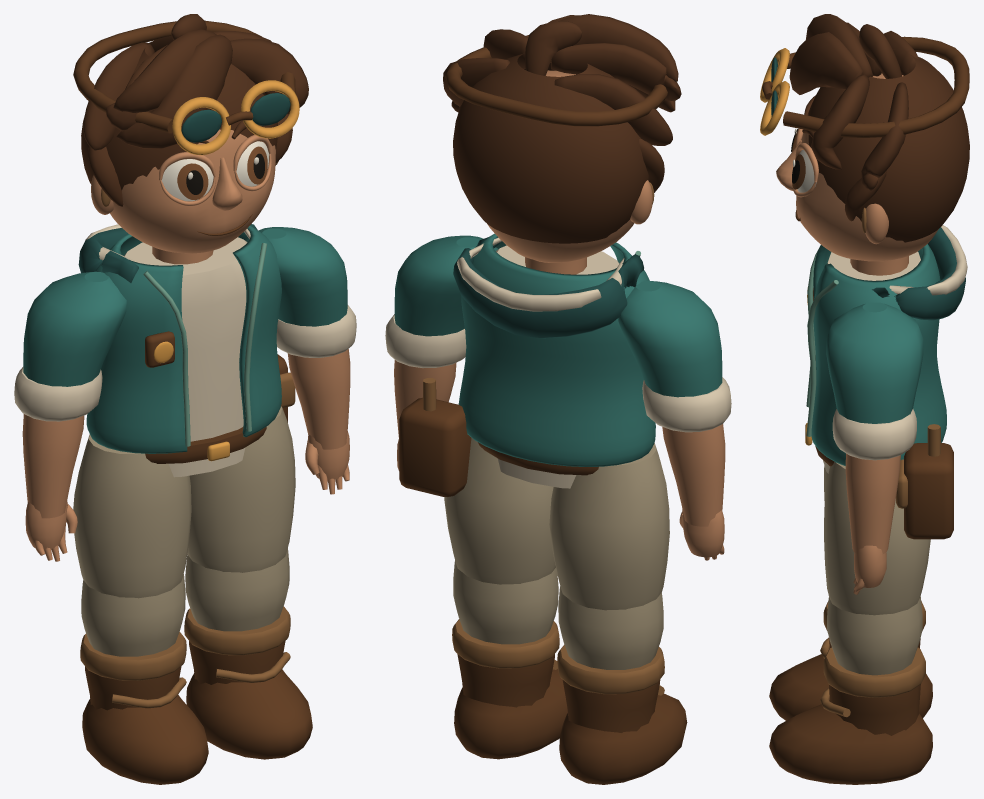
The model's file is scout-v1.glb.
3 views of the same model, side by side, from view 1: azimuth 30°, elevation 25°; view 2: azimuth 150°, elevation 25°; view 3: azimuth 270°, elevation 25° (orthographic). The views are drawn at different scales.
Visible parts, largest first — view 1: Scout_short-jacket-volume, left_trouser-thigh, right_trouser-thigh, Linen_shirt-body, left_sleeve, left_boot-foot, Face_continuous-cheek-chin-brow, right_boot-foot, right_sleeve, right_trouser-calf, left_trouser-calf, left_forearm (+32 smaller); view 2: Scout_short-jacket-volume, Hair_cap-shaped-hairline, left_trouser-thigh, right_trouser-thigh, left_sleeve, left_boot-foot, right_trouser-calf, left_trouser-calf, Scout_tool-pouch, right_boot-foot, right_sleeve, Scout_folded-hood (+23 smaller); view 3: Hair_cap-shaped-hairline, right_sleeve, Scout_short-jacket-volume, right_boot-foot, right_trouser-thigh, right_trouser-calf, Face_continuous-cheek-chin-brow, Scout_tool-pouch, right_forearm, Goggles_headband, Hair_swept-lock_0, right_rolled-cuff (+23 smaller).
Part boxes in pixels (<box>): Scout_short-jacket-volume: <box>86,226,281,453</box>; left_trouser-thigh: <box>73,434,191,598</box>; right_trouser-thigh: <box>187,406,295,572</box>; Linen_shirt-body: <box>124,237,247,477</box>; left_sleeve: <box>23,271,126,386</box>; left_boot-foot: <box>82,695,208,784</box>; Face_continuous-cheek-chin-brow: <box>110,129,275,253</box>; right_boot-foot: <box>186,669,312,759</box>; right_sleeve: <box>245,227,347,326</box>; right_trouser-calf: <box>185,548,289,631</box>; left_trouser-calf: <box>81,574,185,656</box>; left_forearm: <box>22,414,84,518</box>; Scout_short-jacket-volume: <box>458,233,655,466</box>; Hair_cap-shaped-hairline: <box>453,53,648,243</box>; left_trouser-thigh: <box>549,443,669,610</box>; right_trouser-thigh: <box>444,438,555,584</box>; left_sleeve: <box>618,281,722,397</box>; left_boot-foot: <box>559,693,687,784</box>; right_trouser-calf: <box>453,560,558,644</box>; left_trouser-calf: <box>558,586,663,669</box>; Scout_tool-pouch: <box>399,397,471,497</box>; right_boot-foot: <box>454,669,567,759</box>; right_sleeve: <box>394,235,498,336</box>; Scout_folded-hood: <box>453,236,643,338</box>; Hair_cap-shaped-hairline: <box>808,49,969,242</box>; right_sleeve: <box>826,302,923,423</box>; Scout_short-jacket-volume: <box>811,244,946,465</box>; right_boot-foot: <box>769,700,932,784</box>; right_trouser-thigh: <box>824,461,930,615</box>; right_trouser-calf: <box>827,596,922,675</box>; Face_continuous-cheek-chin-brow: <box>796,73,938,261</box>; Scout_tool-pouch: <box>904,443,953,539</box>; right_forearm: <box>845,453,900,554</box>; Goggles_headband: <box>783,36,969,137</box>; Hair_swept-lock_0: <box>789,32,862,94</box>; right_rolled-cuff: <box>832,409,916,460</box>.
Size of the model in its own units: 1.08 by 2.25 by 0.5987.
